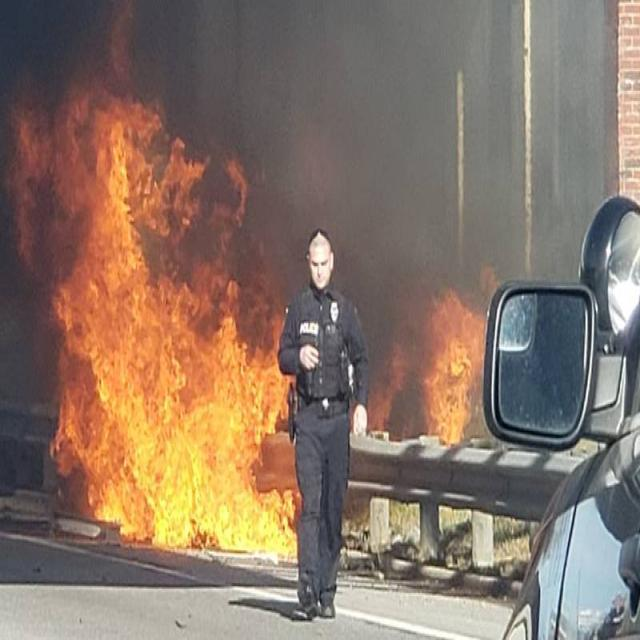Fire: (14, 49, 298, 568), (374, 292, 482, 446)
Smoke: (189, 0, 609, 323)
